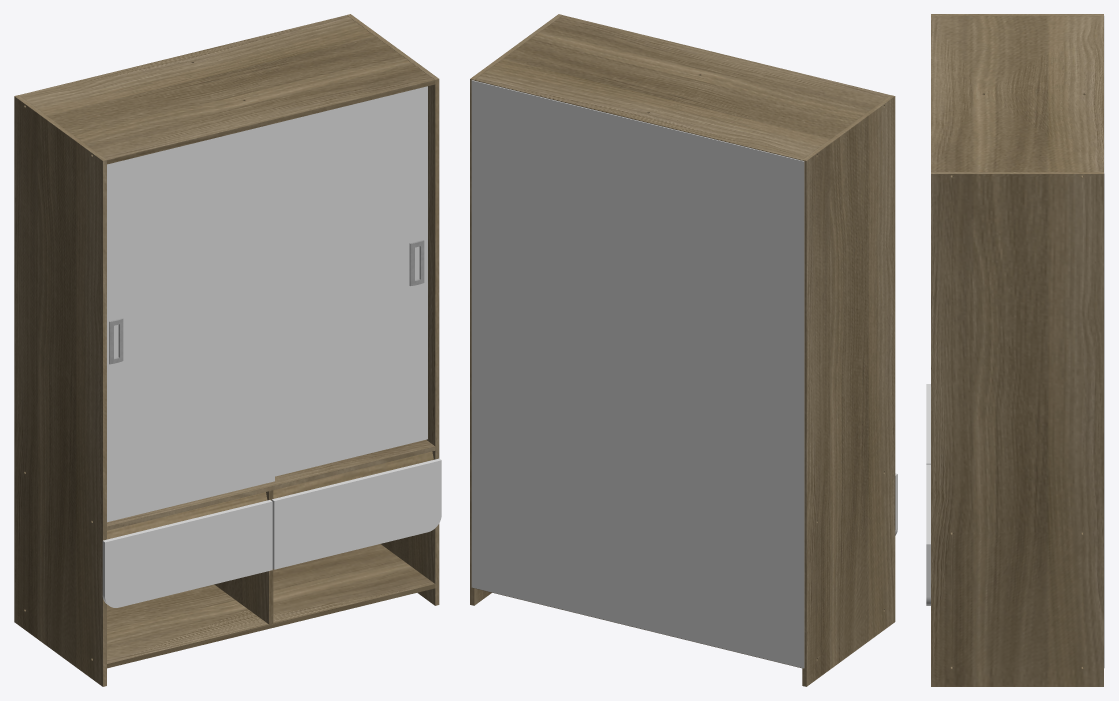
3 renders of one model, left to right at view 1: azimuth 30°, elevation 25°; view 2: azimuth 150°, elevation 25°; view 3: azimuth 270°, elevation 25°, orthographic. The views are drawn at different scales.
Visible parts, largest first — view 1: A742272-PUERTASXIZ, A742272-PUERTASXDE, A742272-COSTADOSCO, A742272-TAPASXXXTA, A742272-PISOSXXXPI, A742272-FRENTESXCI, A742272-FRENTESXCD, Simetruc801742272-COSTADOSCO, A742272-TAPASXXXEN, A742272-SEPDORESAJ, A742272-FAJASXXXFR001, A742272-FAJASXXXFR; view 2: A742272-FONDOSXXMU001, A742272-FONDOSXXMU, A742272-COSTADOSCO, A742272-TAPASXXXTA, Simetruc801742272-COSTADOSCO; view 3: Simetruc801742272-COSTADOSCO, A742272-TAPASXXXTA, A742272-FRENTESXCD, A742272-FONDOSXXMU001, A742272-FRENTESXCI, A742272-COSTADOSCO.
Part boxes in pixels (x1,y1,x2,y2): A742272-PUERTASXIZ: (107, 123, 274, 522); A742272-PUERTASXDE: (275, 86, 427, 476); A742272-COSTADOSCO: (14, 95, 106, 686); A742272-TAPASXXXTA: (19, 15, 435, 164); A742272-PISOSXXXPI: (107, 544, 435, 668); A742272-FRENTESXCI: (102, 500, 272, 607); A742272-FRENTESXCD: (271, 458, 441, 569); Simetruc801742272-COSTADOSCO: (347, 14, 439, 605); A742272-TAPASXXXEN: (107, 440, 435, 530); A742272-SEPDORESAJ: (214, 490, 273, 624); A742272-FAJASXXXFR001: (273, 451, 433, 498); A742272-FAJASXXXFR: (107, 492, 267, 539); A742272-FONDOSXXMU001: (471, 80, 637, 627); A742272-FONDOSXXMU: (638, 120, 804, 668); A742272-COSTADOSCO: (802, 95, 895, 686); A742272-TAPASXXXTA: (474, 15, 890, 160); Simetruc801742272-COSTADOSCO: (470, 14, 562, 605); Simetruc801742272-COSTADOSCO: (931, 172, 1103, 686); A742272-TAPASXXXTA: (931, 16, 1103, 175); A742272-FRENTESXCD: (926, 464, 930, 605); A742272-FONDOSXXMU001: (1104, 94, 1104, 668); A742272-FRENTESXCI: (926, 384, 930, 464); A742272-COSTADOSCO: (931, 14, 1103, 15).
Bounding box in the file's own units: 1.21 × 1.8 × 0.568.
1 material, 1 textured.
